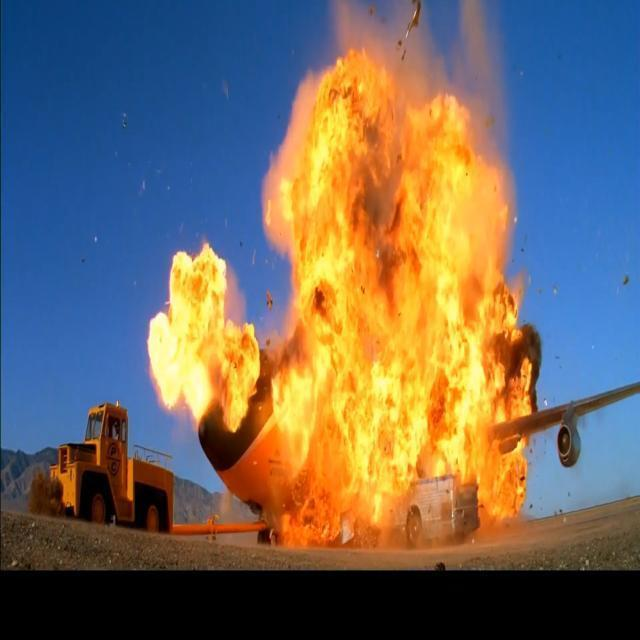fire: (146, 42, 541, 554)
